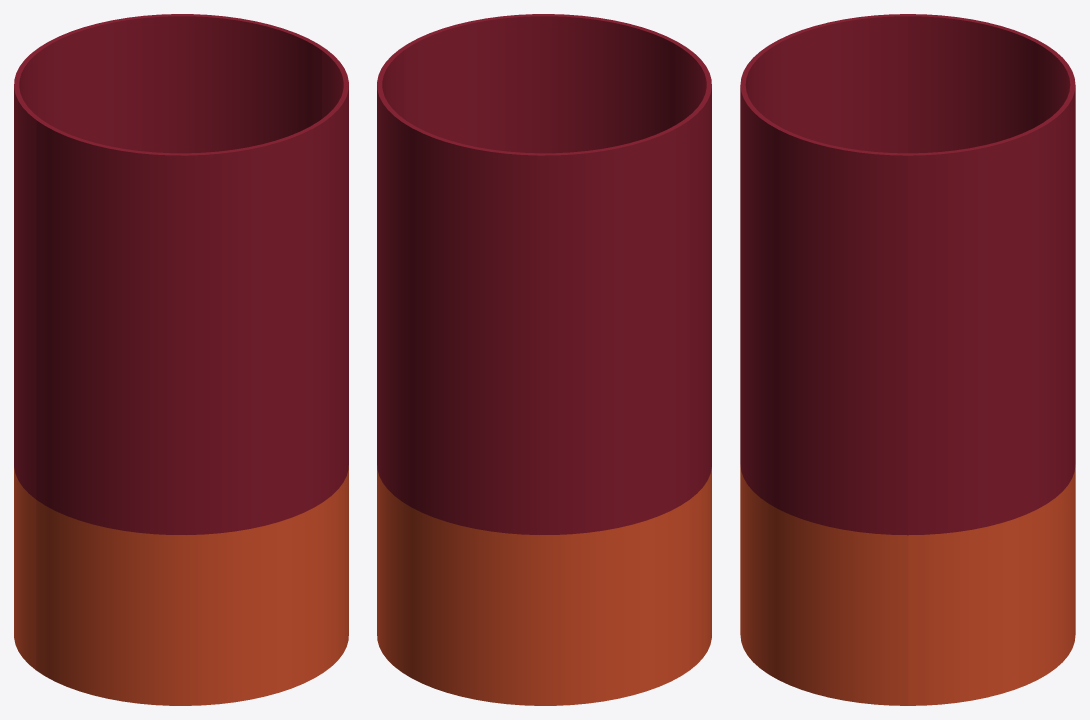
File: incinerator_temperature.glb
3 views of the same model, side by side, from view 1: azimuth 30°, elevation 25°; view 2: azimuth 150°, elevation 25°; view 3: azimuth 270°, elevation 25° (orthographic).
Visible parts, largest first — view 1: temperature__front, temperature__back; view 2: temperature__back, temperature__front; view 3: temperature__back, temperature__front.
Boxes of the visible parts, <box> form: temperature__front: <box>36,49,348,705</box>; temperature__back: <box>14,14,325,669</box>; temperature__back: <box>377,49,689,705</box>; temperature__front: <box>400,14,711,669</box>; temperature__back: <box>908,14,1075,705</box>; temperature__front: <box>740,14,907,705</box>.
Bounding box in the file's own units: 1.6 × 2.9 × 1.6.
